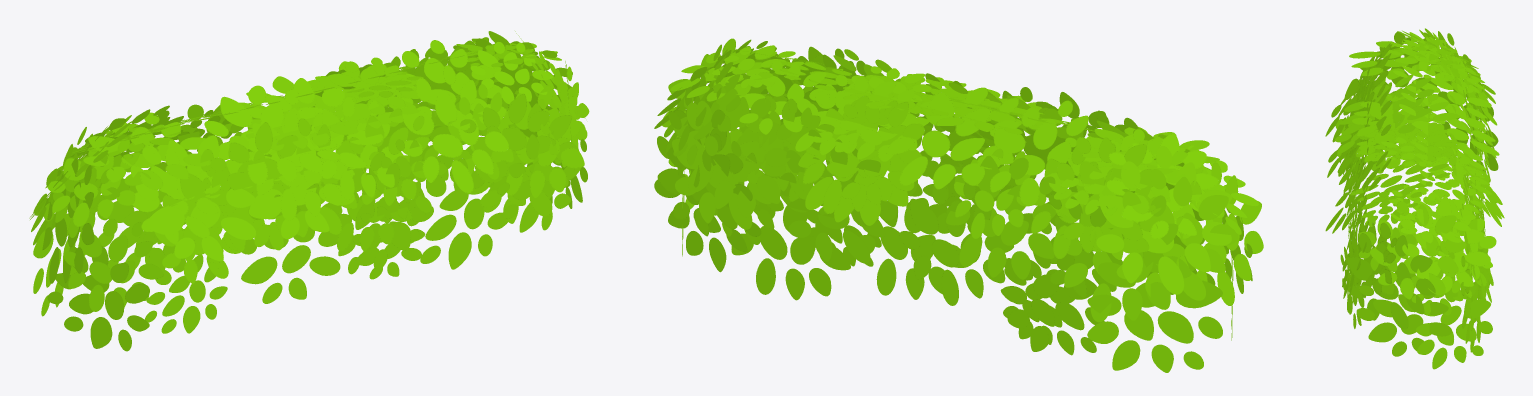
Rendered from Bush_Small.glb.
The picture shows the model from 3 angles, left to right: view 1: azimuth 30°, elevation 25°; view 2: azimuth 150°, elevation 25°; view 3: azimuth 270°, elevation 25°; orthographic projection. The views are drawn at different scales.
Size of the model in its own units: 1.9 by 0.7784 by 0.7238.
Materials: 1 (1 with a texture image).
